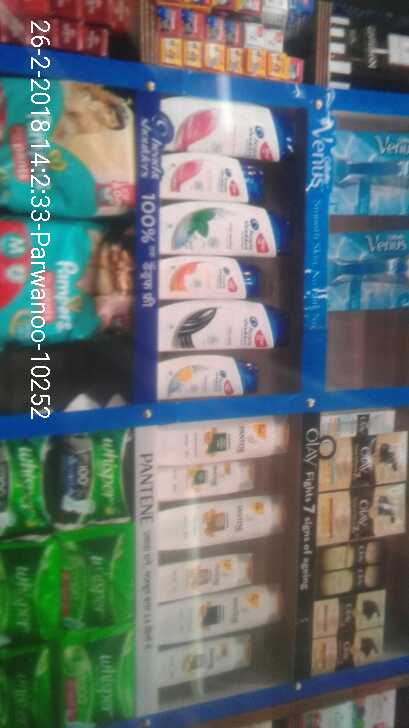venus: (334, 130, 409, 209), (331, 233, 409, 307)
